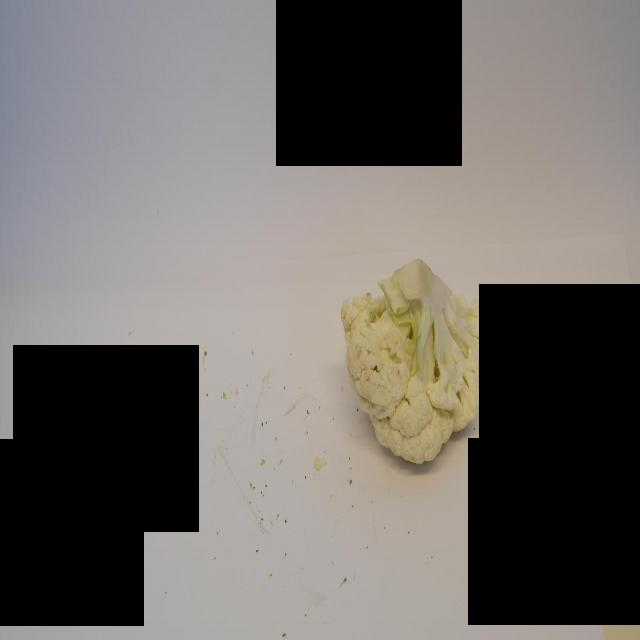cauliflower: (338, 255, 496, 474)
